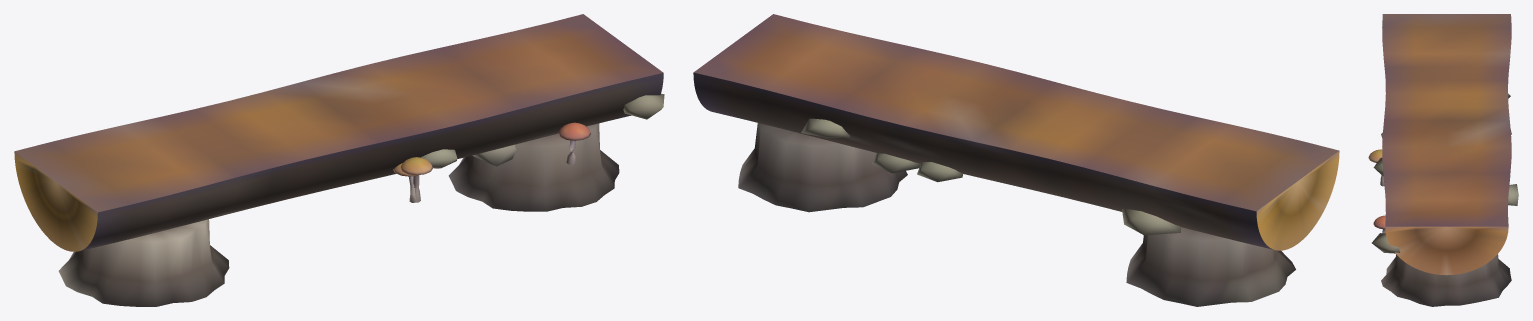
Rendered from kutuk_bank.glb.
3 views of the same model, side by side, from view 1: azimuth 30°, elevation 25°; view 2: azimuth 150°, elevation 25°; view 3: azimuth 270°, elevation 25° (orthographic). The views are drawn at different scales.
Visible parts, largest first — view 1: kutuk_bank_LOD0; view 2: kutuk_bank_LOD0; view 3: kutuk_bank_LOD0.
Part boxes in pixels (<box>): kutuk_bank_LOD0: <box>14,14,664,306</box>; kutuk_bank_LOD0: <box>693,14,1339,306</box>; kutuk_bank_LOD0: <box>1368,14,1518,306</box>.
Size of what is drawn, in the model's own units: 1.62 by 0.3 by 0.4774.
